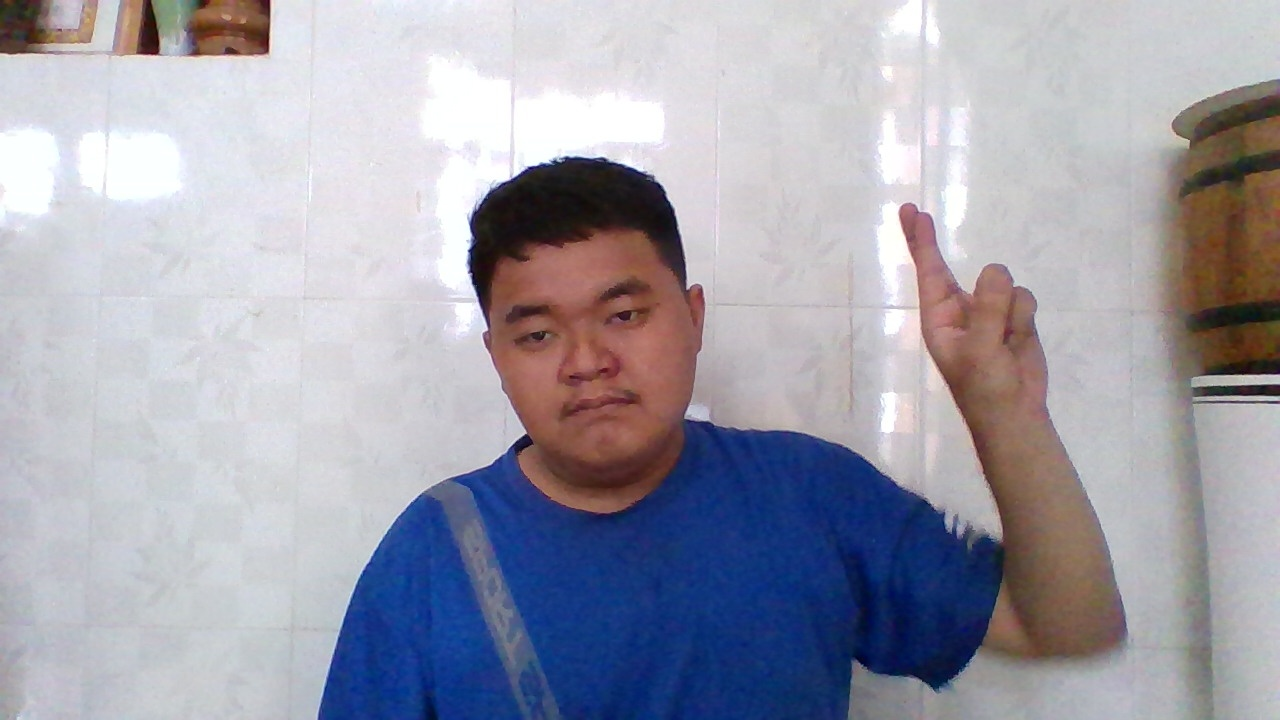R: (893, 195, 1039, 425)
